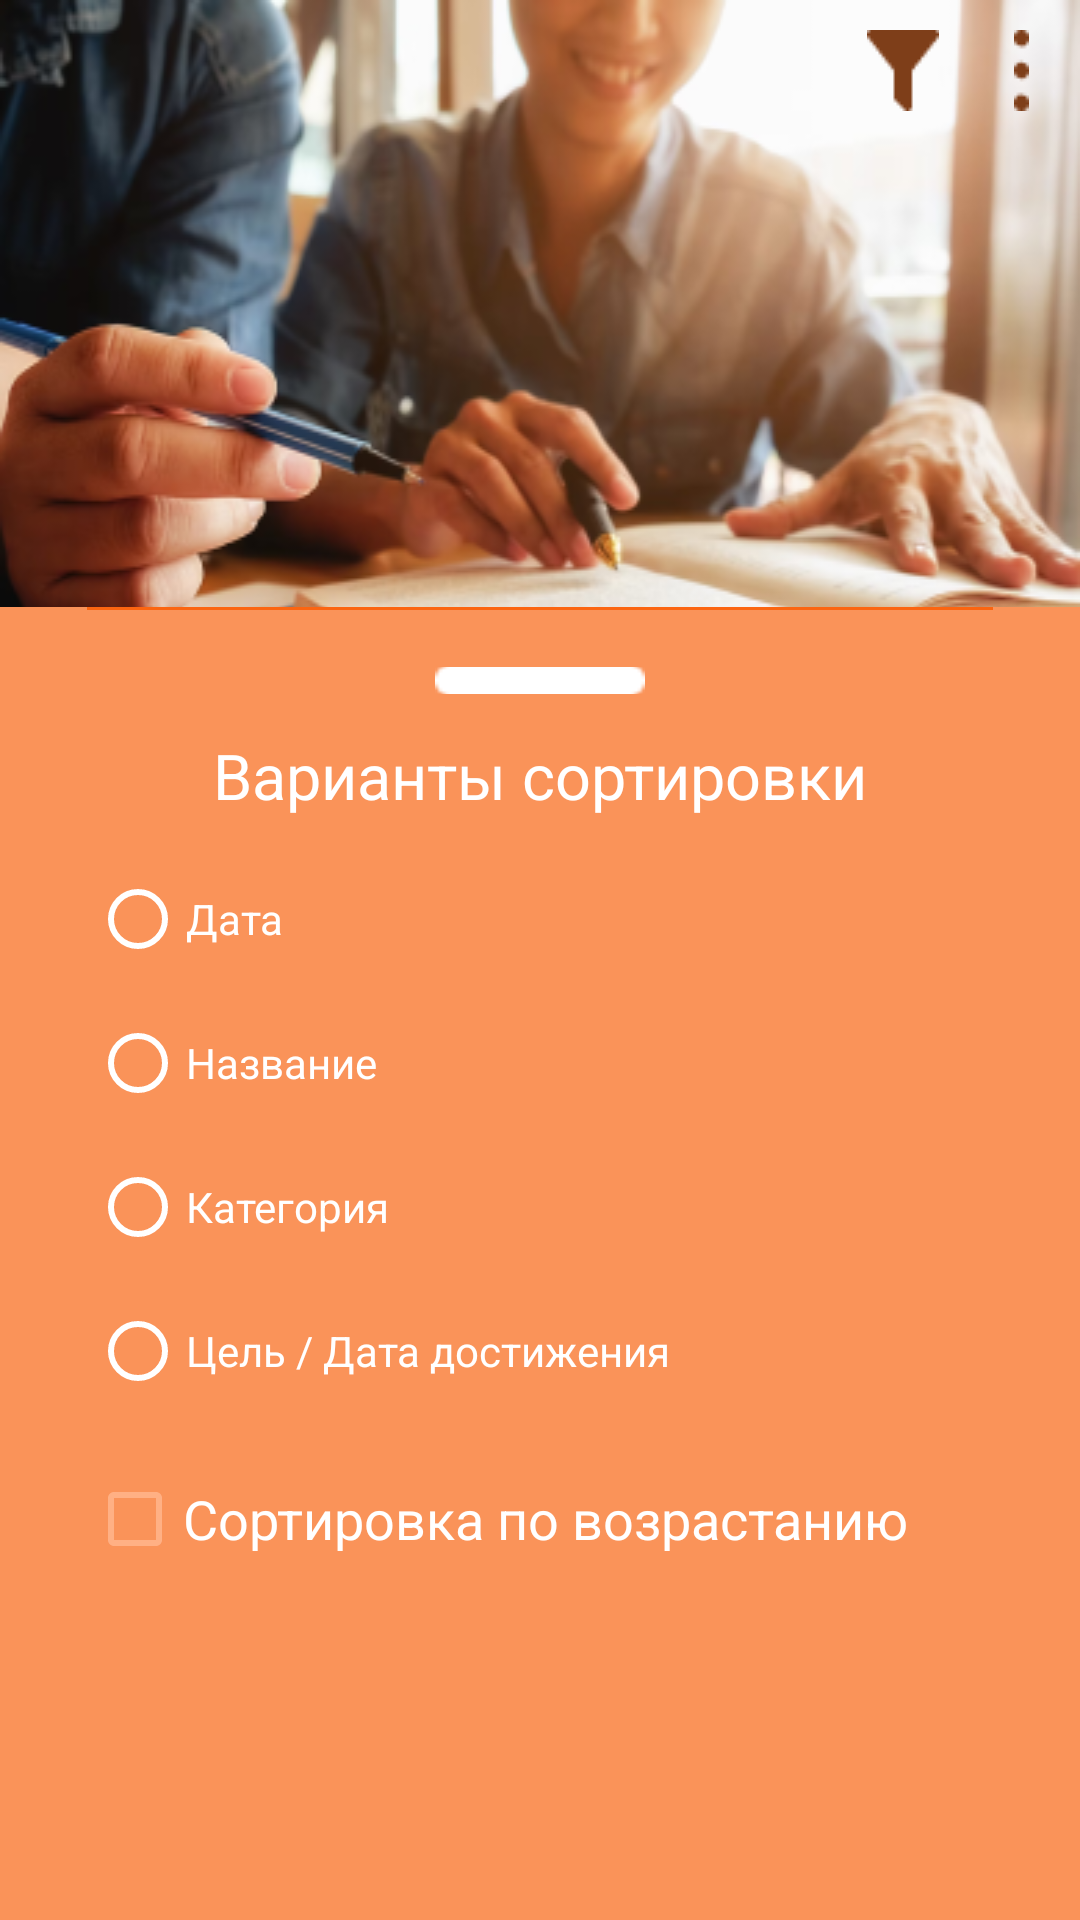

Icon click points for this 1080*1920 phone screenshot, format (x,y):
filter: (903,70)
